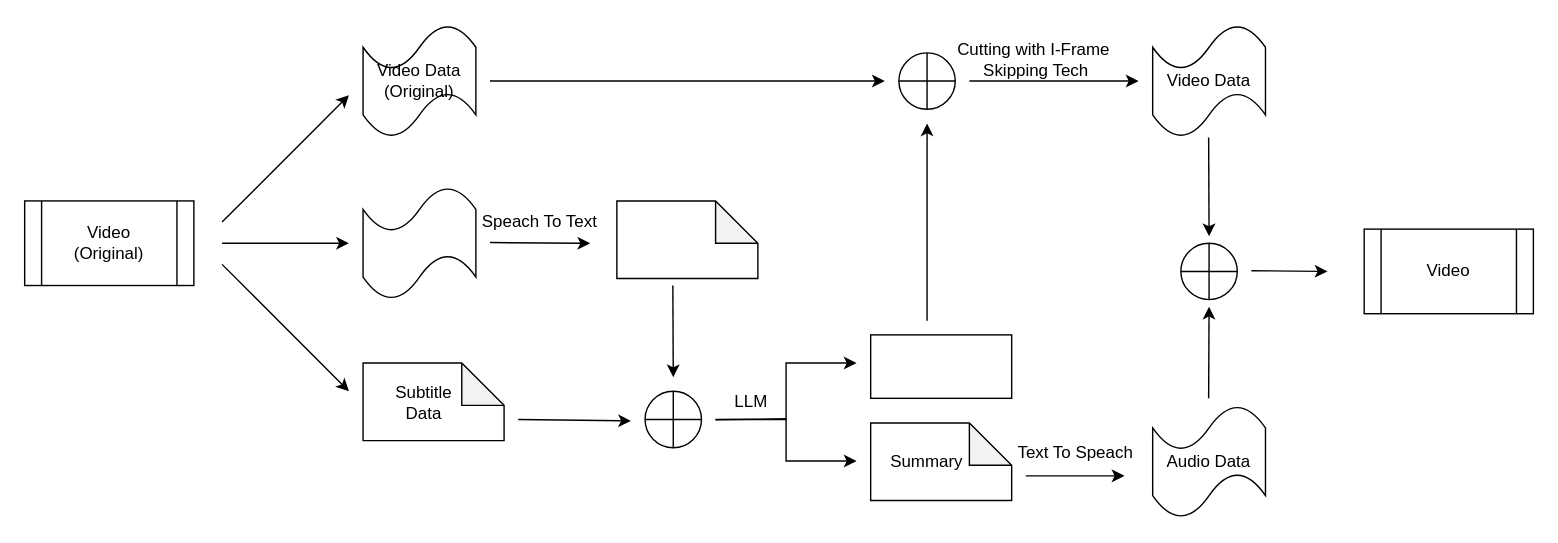
This 1558x543 diagram has some shape labels left out. The shapes that lost their labels are listed below. From the top down, each one's centre as x and y in pixels, then its label:
At (419,242): "Audio Data (Original)".
At (686,239): "Texure (Original)".
At (940,365): "Timeline of Important Plot".
